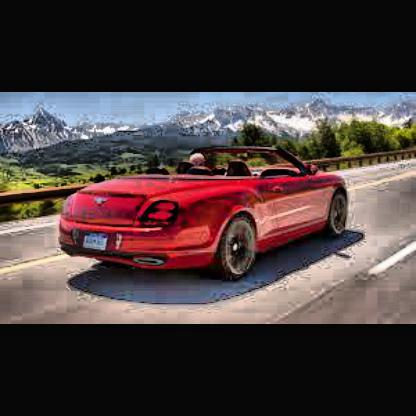Bentley Continental Supersports Conv- Convertible 2012: (60, 146, 353, 290)
